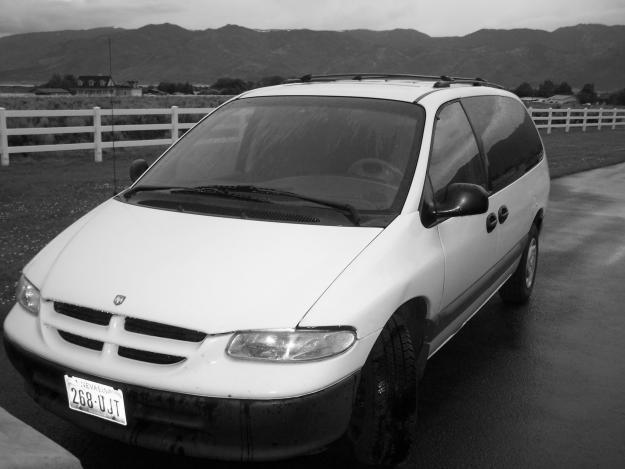car: (5, 82, 550, 442)
